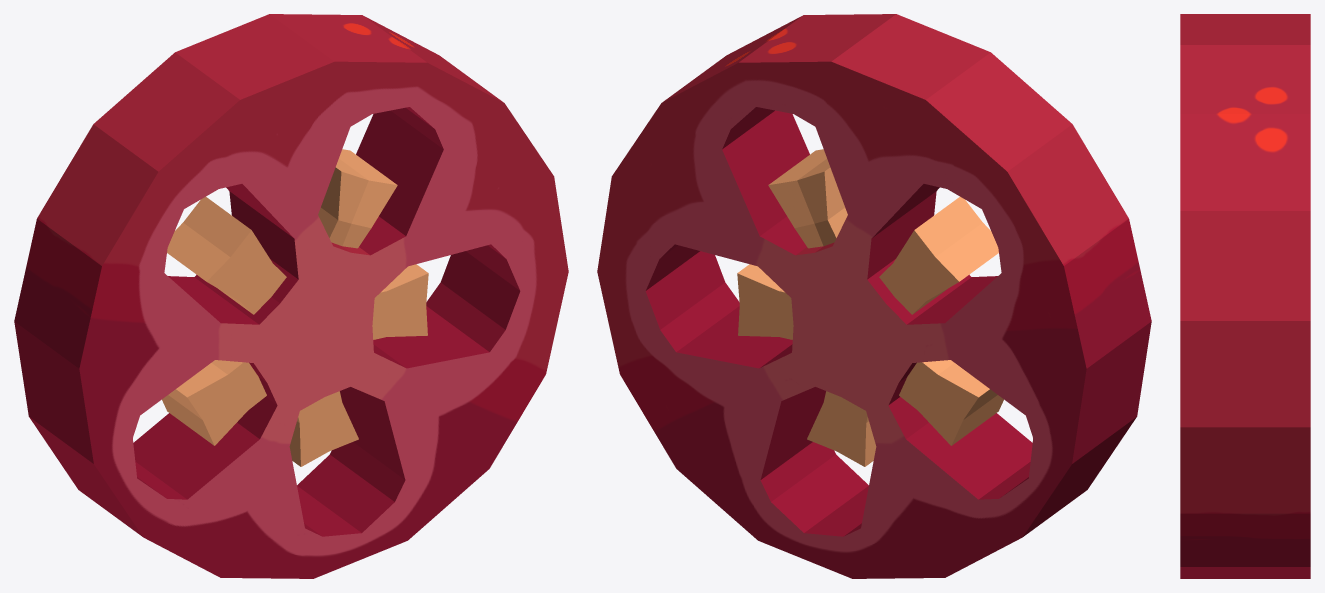
File: tomatoSlice2_-_resized.fbx
3 views of the same model, side by side, from view 1: azimuth 30°, elevation 25°; view 2: azimuth 150°, elevation 25°; view 3: azimuth 270°, elevation 25° (orthographic).
Parts seen in each view (by area): view 1: tomatoSlice; view 2: tomatoSlice; view 3: tomatoSlice.
Part boxes in pixels (x1=…): tomatoSlice: x1=14, y1=14, x2=568, y2=578; tomatoSlice: x1=597, y1=14, x2=1151, y2=578; tomatoSlice: x1=1180, y1=14, x2=1310, y2=578.
Size of the model in its own units: 87.15 by 87.15 by 20.09.
Materials: 1 (1 with a texture image).
